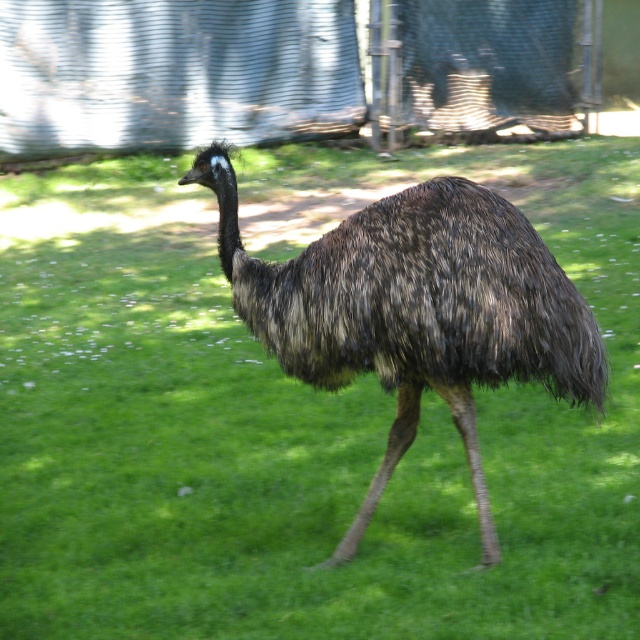Ostrich: (178, 137, 615, 576)
